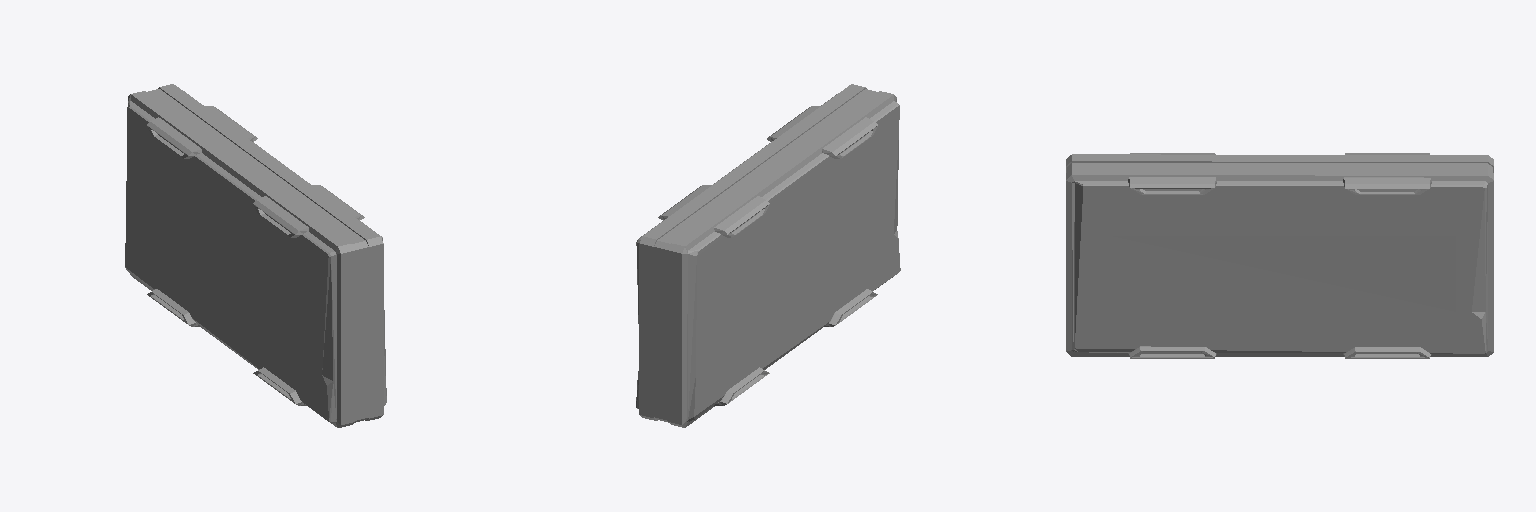
File: wall_s.obj
The picture shows the model from 3 angles: view 1: azimuth 30°, elevation 25°; view 2: azimuth 150°, elevation 25°; view 3: azimuth 270°, elevation 25°; orthographic projection.
Visible parts, largest first — view 1: default-default.000_default-default.002; view 2: default-default.000_default-default.002; view 3: default-default.000_default-default.002.
Part boxes in pixels (x1,y1,x2,y2): default-default.000_default-default.002: (125,84,386,427); default-default.000_default-default.002: (636,84,900,427); default-default.000_default-default.002: (1066,153,1493,358).
Size of the model in its own units: 0.3105 by 0.7593 by 1.62.